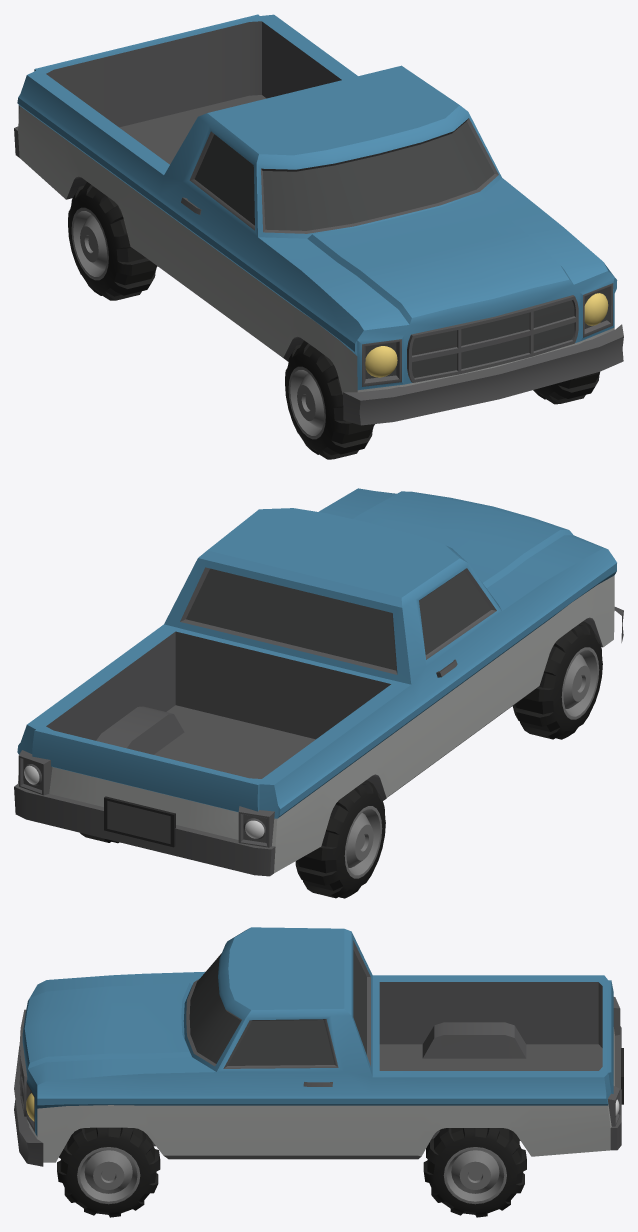
File: car_pickup.glb
3 renders of one model, top to bottom at view 1: azimuth 30°, elevation 25°; view 2: azimuth 150°, elevation 25°; view 3: azimuth 270°, elevation 25°, orthographic. The views are drawn at different scales.
Parts seen in each view (by area): view 1: BackWheels, Pickup; view 2: BackWheels; view 3: BackWheels.
Boxes of the visible parts, x1,y1,x2,y2 form: BackWheels: (14,14,623,459); Pickup: (365,293,608,377); BackWheels: (14,488,623,898); BackWheels: (14,927,623,1217).
Bounding box in the file's own units: 2.31 × 1.85 × 5.18.
Materials: 3 (1 with a texture image).
